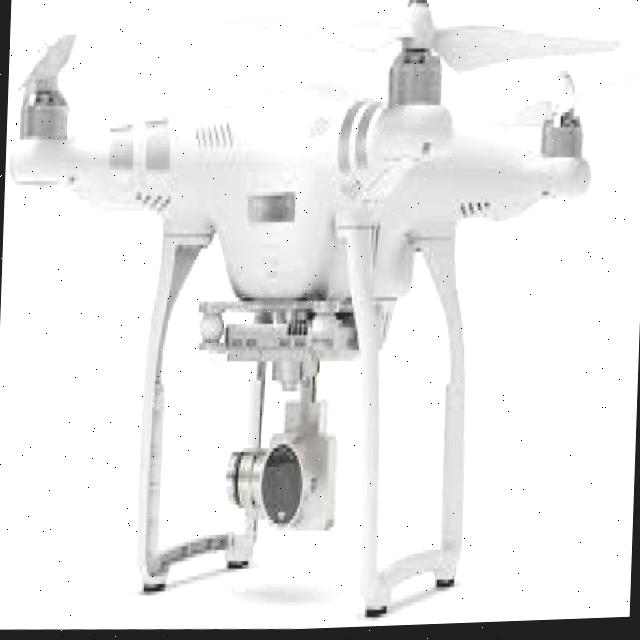drone: (0, 6, 640, 626)
